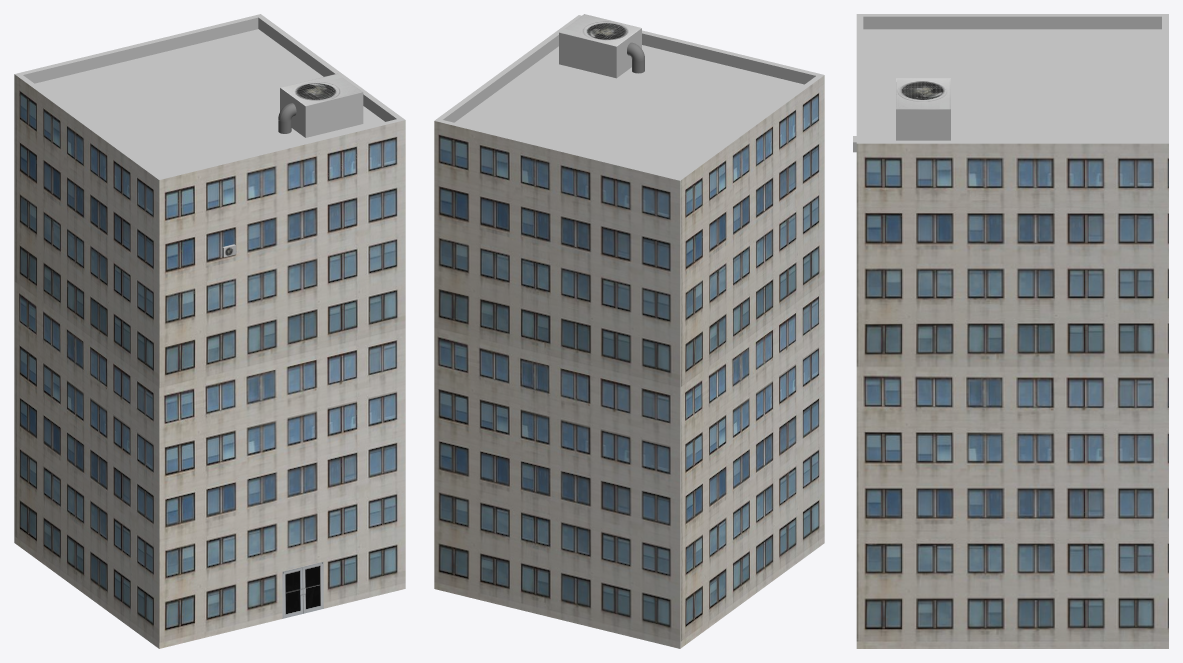
File: turn.glb
3 renders of one model, left to right at view 1: azimuth 30°, elevation 25°; view 2: azimuth 150°, elevation 25°; view 3: azimuth 270°, elevation 25°, orthographic. The views are drawn at different scales.
Visible parts, largest first — view 1: Material2 (×4); view 2: Material2 (×3); view 3: Material2 (×3).
Boxes of the visible parts, x1,y1,x2,y2 form: Material2 (×4): (14,14,405,648); Material2 (×3): (434,14,824,648); Material2 (×3): (853,14,1168,648).
Bounding box in the file's own units: 177 × 335 × 182.
Materials: 6 (3 with a texture image).
